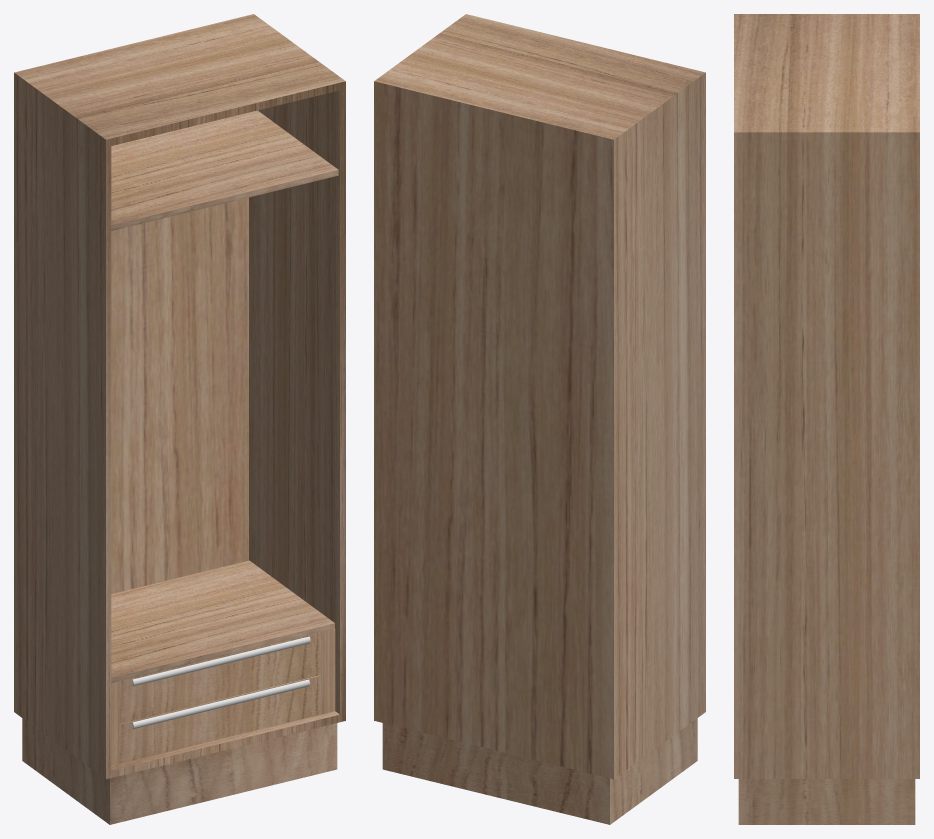
Rendered from Lemari 904E.glb.
3 views of the same model, side by side, from view 1: azimuth 30°, elevation 25°; view 2: azimuth 150°, elevation 25°; view 3: azimuth 270°, elevation 25° (orthographic).
Visible parts, largest first — view 1: lemari 904e; view 2: lemari 904e; view 3: lemari 904e.
Part boxes in pixels (x1=…): lemari 904e: x1=14, y1=14, x2=345, y2=824; lemari 904e: x1=374, y1=14, x2=705, y2=824; lemari 904e: x1=734, y1=14, x2=919, y2=824.
Size of the model in its own units: 0.904 by 2.48 by 0.6.
2 materials, 1 textured.
